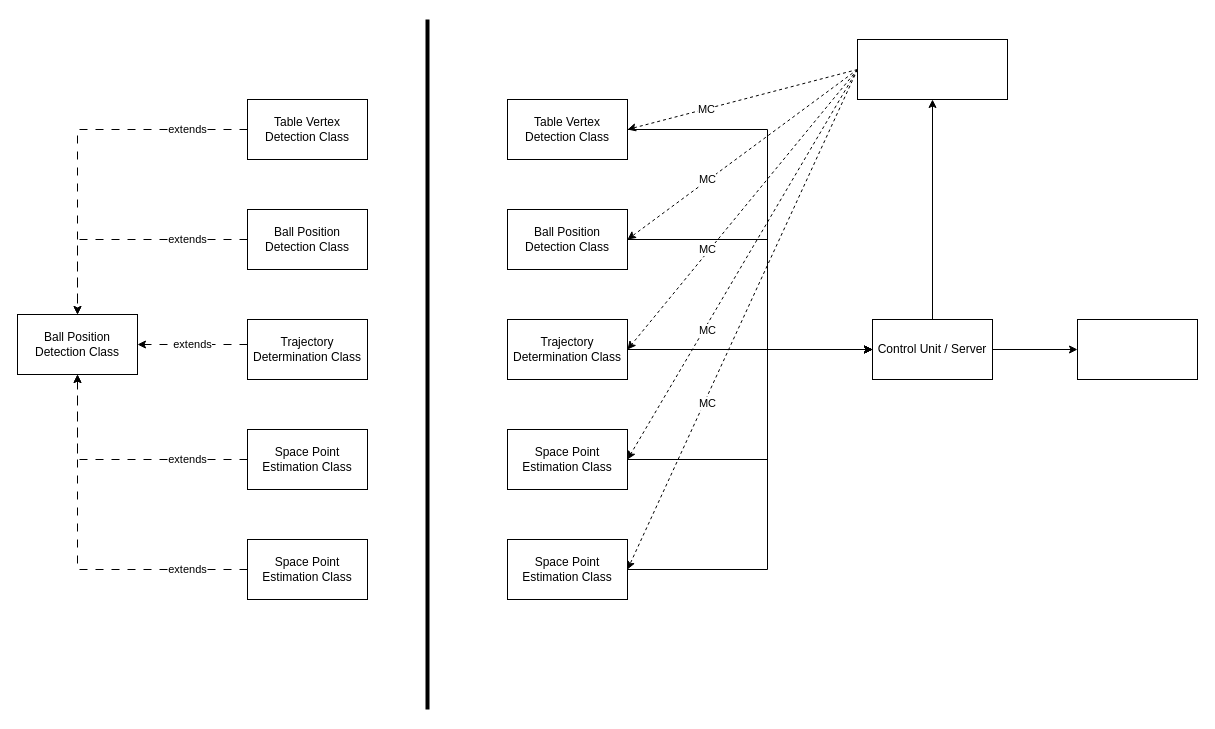
The diagram is 1215 pixels wide and 729 high, and some of its shapes have lost their labels. Each missing label, with the centre of its shape:
Communication Interface / MQTT Server: point (932, 69)
Database: point (1137, 349)
